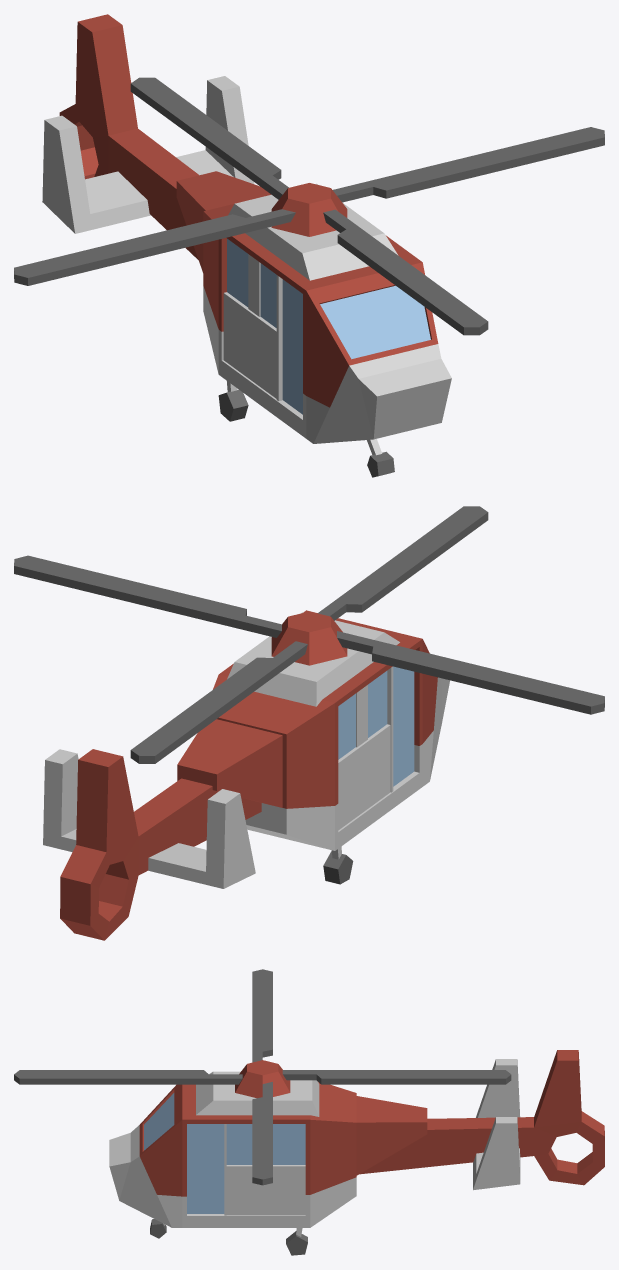
File: transport_air_006.glb
The picture shows the model from 3 angles, top to bottom: view 1: azimuth 30°, elevation 25°; view 2: azimuth 150°, elevation 25°; view 3: azimuth 270°, elevation 25°; orthographic projection. The views are drawn at different scales.
Parts seen in each view (by area): view 1: transport_air_006; view 2: transport_air_006; view 3: transport_air_006.
Boxes of the visible parts, x1=… form: transport_air_006: x1=14, y1=14, x2=604, y2=477; transport_air_006: x1=14, y1=506, x2=604, y2=940; transport_air_006: x1=14, y1=969, x2=604, y2=1255.
Size of the model in its own units: 7.49 by 3 by 8.9.
Materials: 1 (1 with a texture image).
